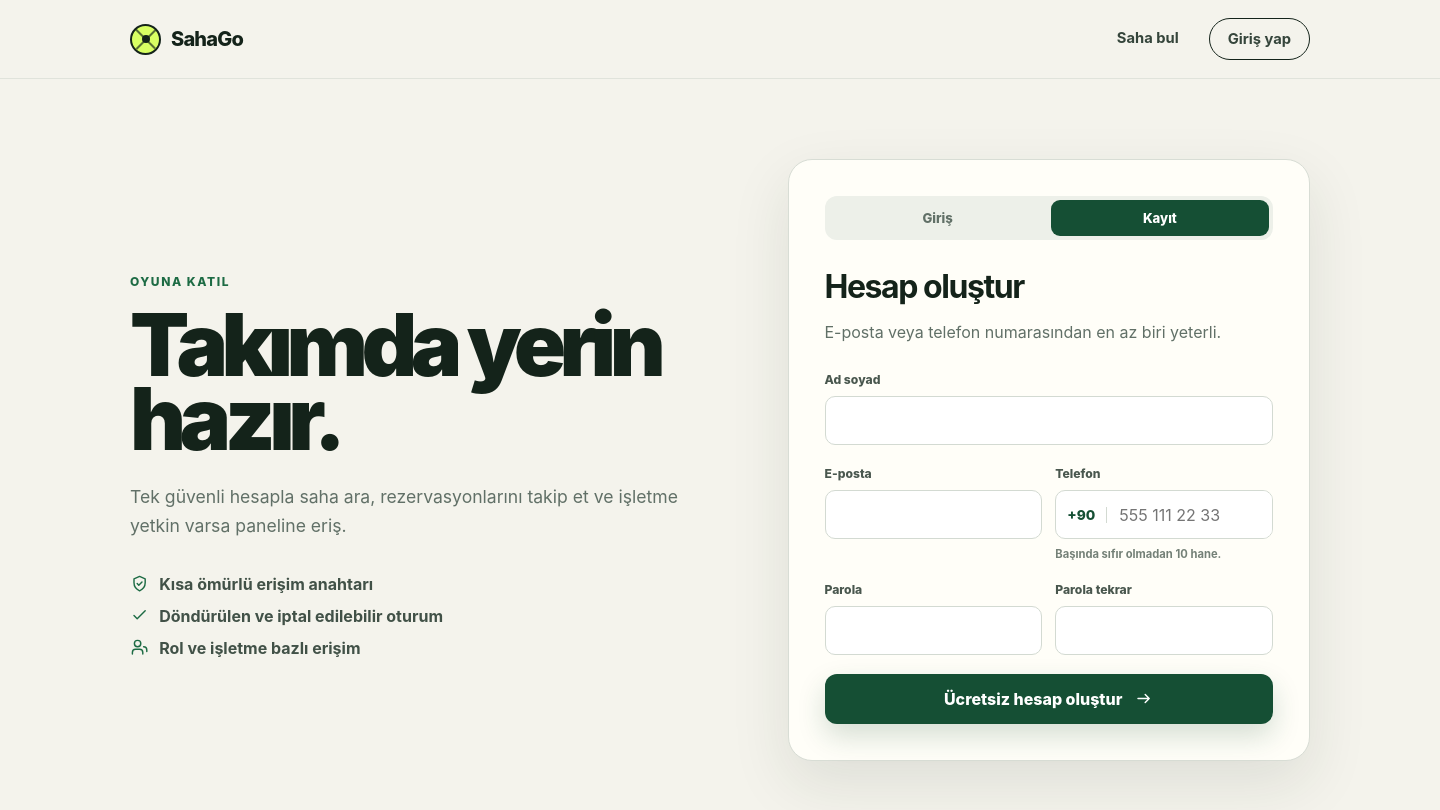
frontend routes › explains rate limiting instead of showing a generic registration error
Expected: the heading "Hesap oluştur" is shown, [824,267,1024,306]
Type "Test Oyuncu" into the field labelled "Ad soyad" at (1049, 420), box [824,396,1273,445]
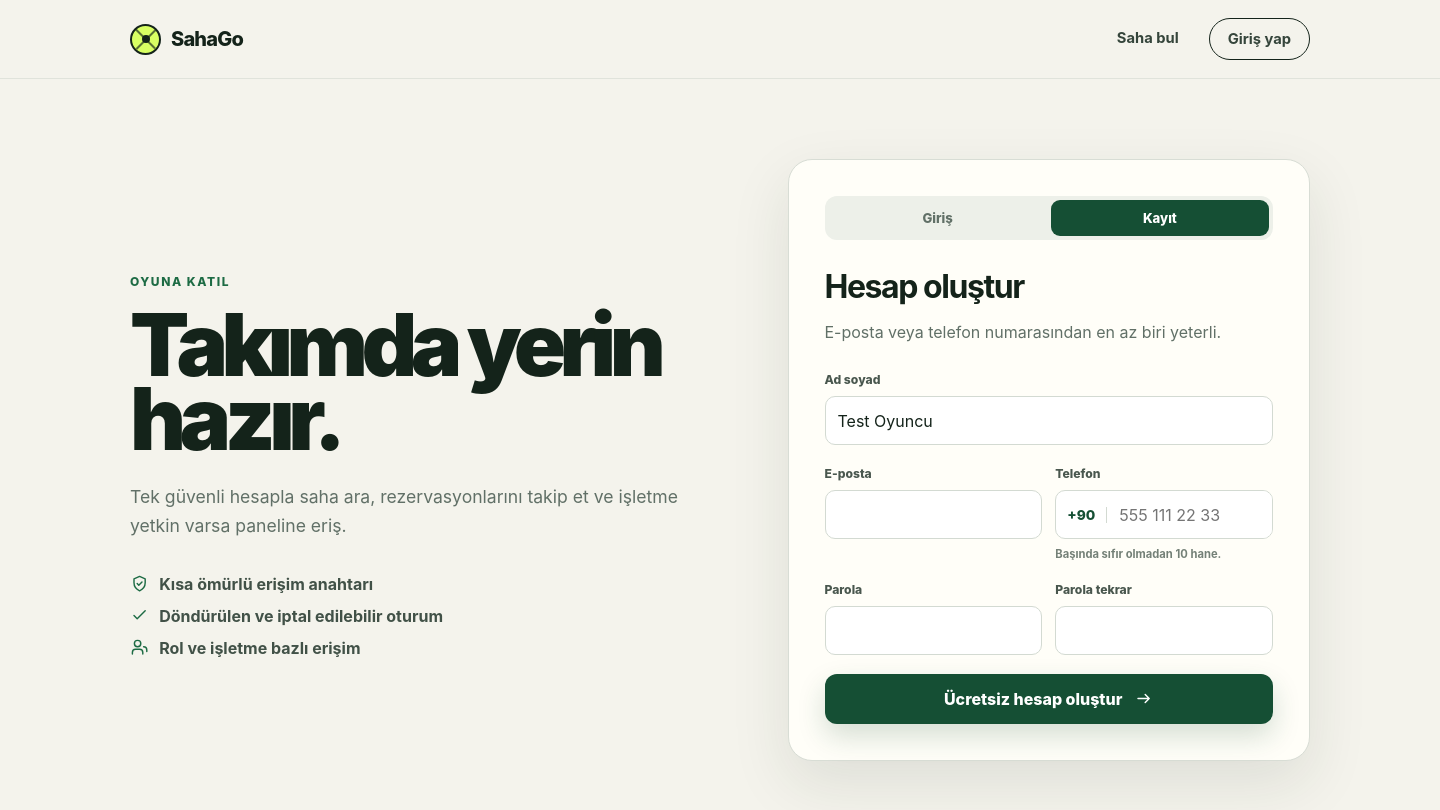
Type "yeni@example.test" into the field labelled "E-posta" at (933, 514), box [824,490,1042,539]
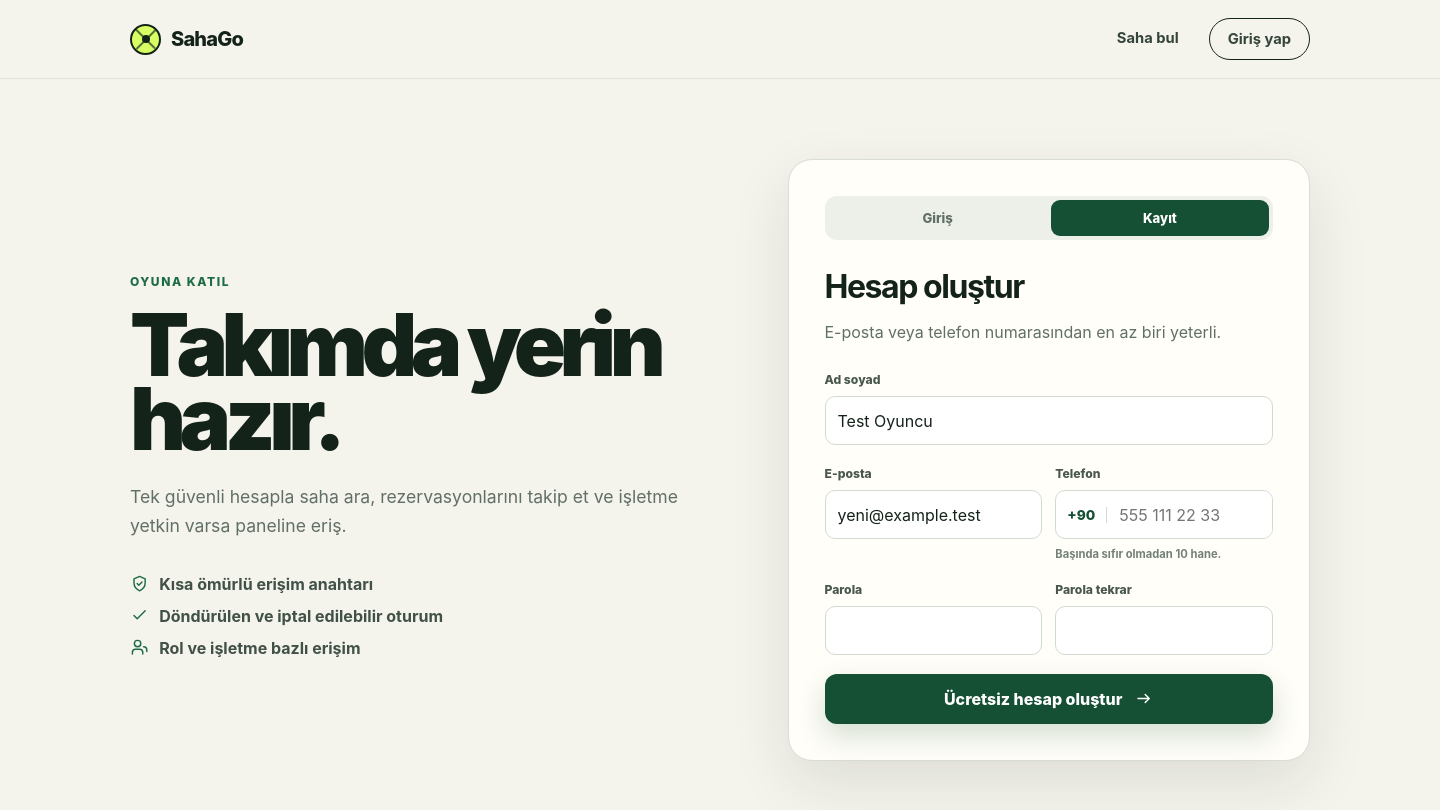
Type "Guvenli1234" into the password field labelled "Parola" at (933, 630), box [824,606,1042,655]
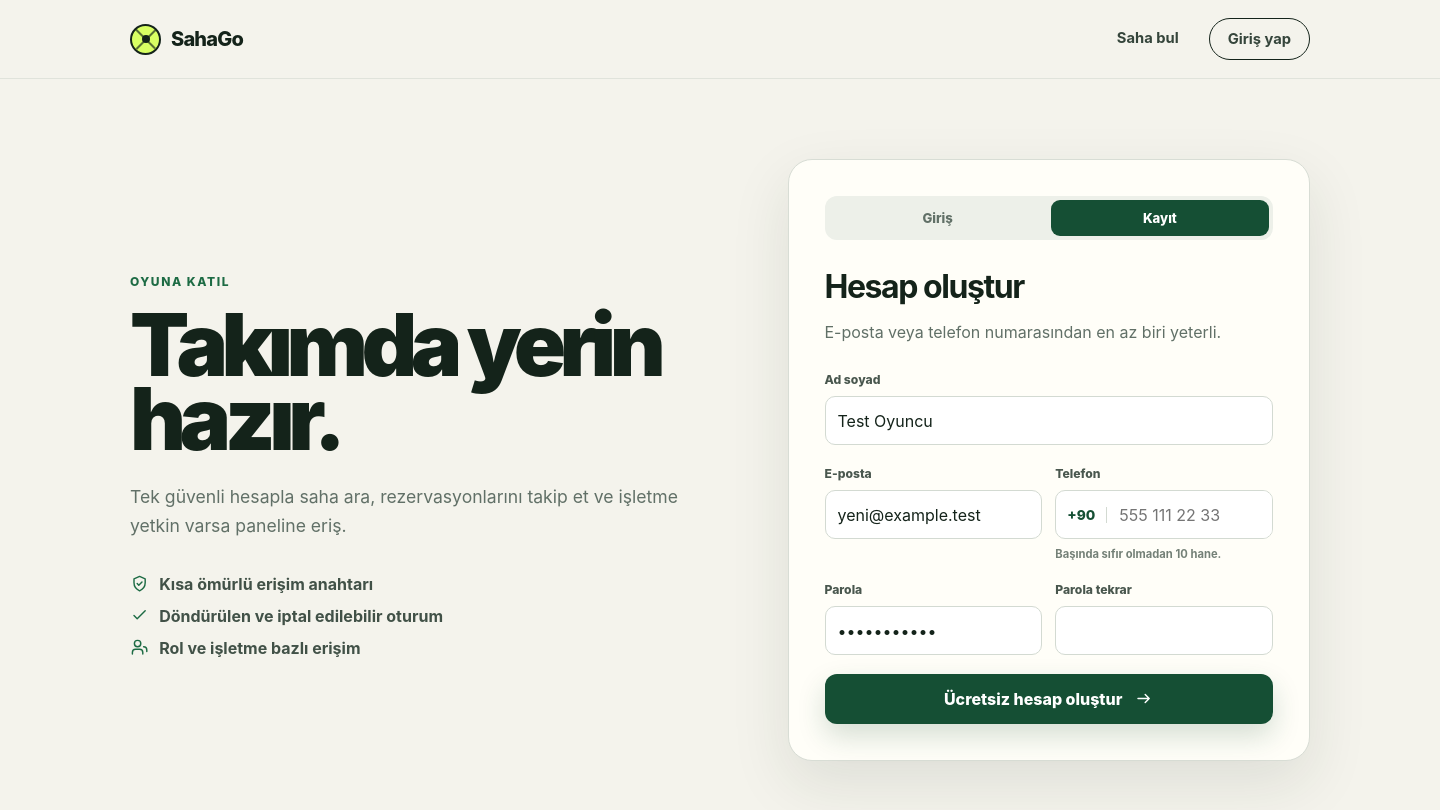
Type "Guvenli1234" into the password field labelled "Parola tekrar" at (1164, 630), box [1055,606,1273,655]
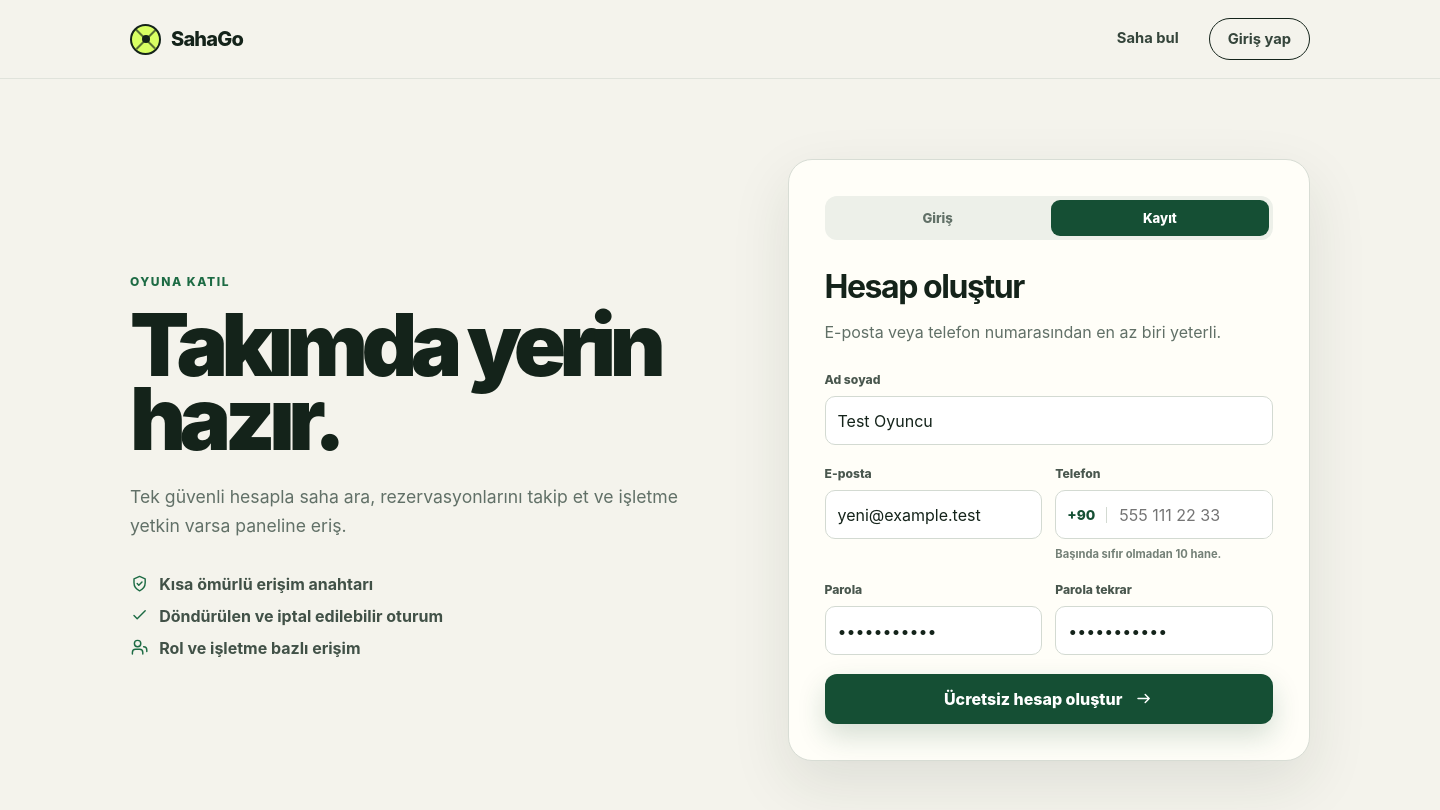
Click the button "Ücretsiz hesap oluştur" at (1049, 699), box [824,674,1273,724]
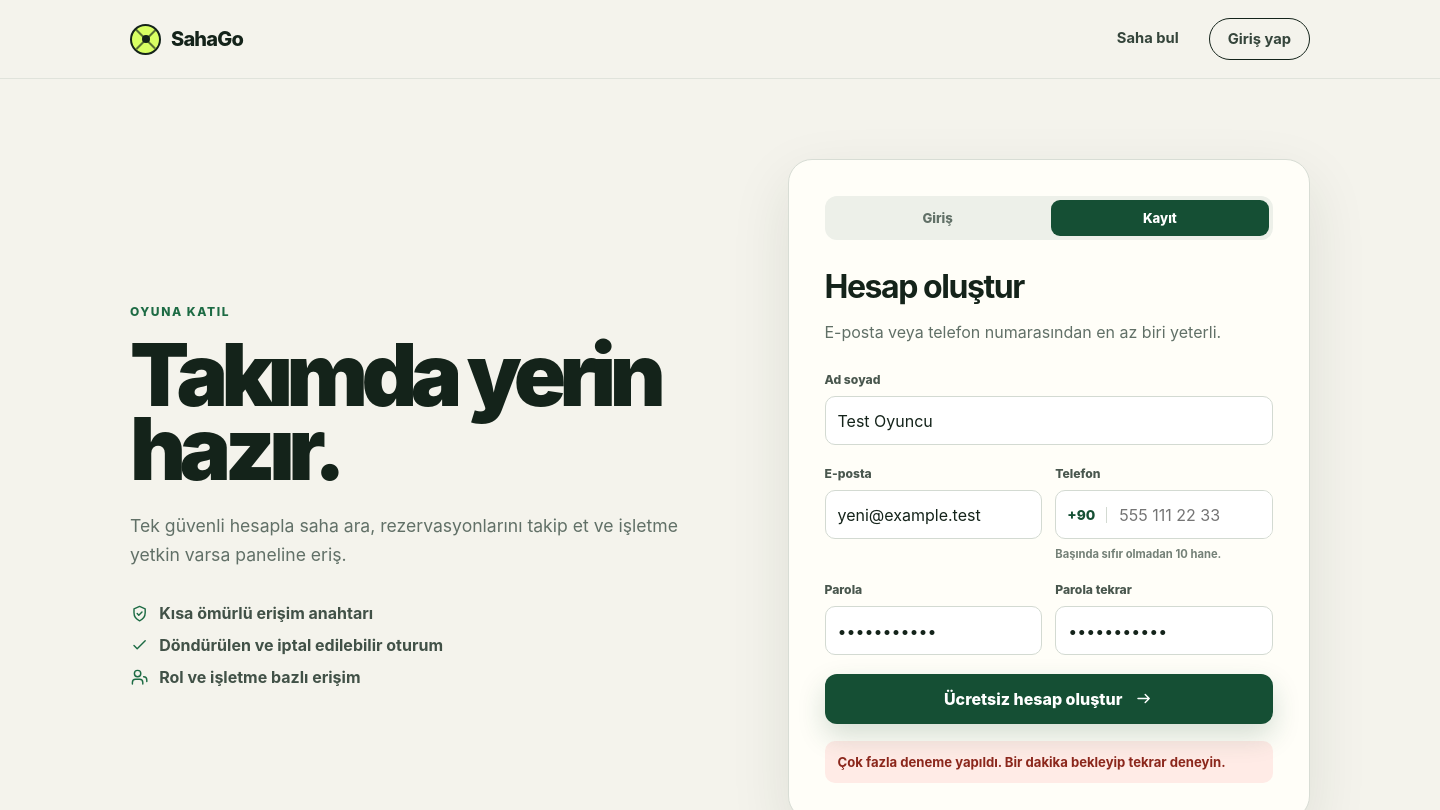
Expected: the message shows "Çok fazla deneme yapıldı", [838,754,1226,770]
